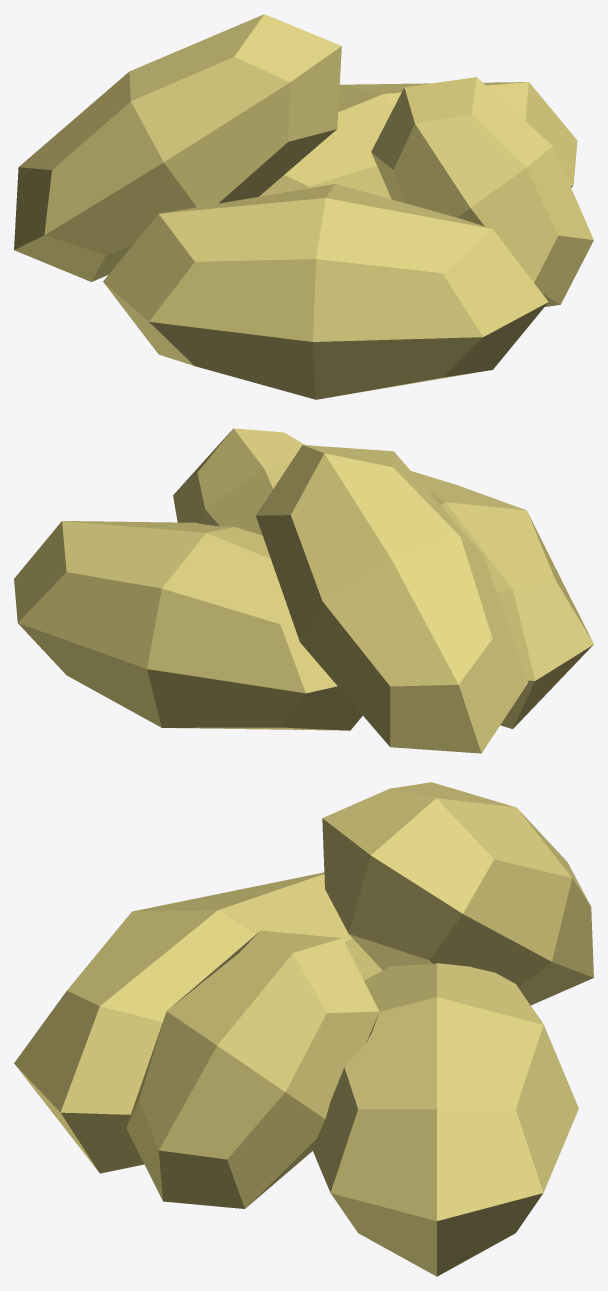
The model's file is patates_raw_low.fbx.
3 views of the same model, one above another, from view 1: azimuth 30°, elevation 25°; view 2: azimuth 150°, elevation 25°; view 3: azimuth 270°, elevation 25° (orthographic). The views are drawn at different scales.
Parts seen in each view (by area): view 1: Cube_2, Cube, Cube_1, Cube_3; view 2: Cube, Cube_3, Cube_2, Cube_1; view 3: Cube_3, Cube_1, Cube, Cube_2.
Part boxes in pixels (x1=…): Cube_2: x1=103, y1=184, x2=548, y2=399; Cube: x1=14, y1=14, x2=341, y2=281; Cube_1: x1=371, y1=77, x2=593, y2=306; Cube_3: x1=259, y1=82, x2=577, y2=199; Cube: x1=256, y1=445, x2=527, y2=753; Cube_3: x1=14, y1=521, x2=362, y2=730; Cube_2: x1=411, y1=471, x2=593, y2=728; Cube_1: x1=173, y1=428, x2=304, y2=535; Cube_3: x1=311, y1=963, x2=578, y2=1276; Cube_1: x1=126, y1=930, x2=379, y2=1208; Cube: x1=322, y1=782, x2=593, y2=1005; Cube_2: x1=14, y1=872, x2=382, y2=1173.
Size of the model in its own units: 85.91 by 46.31 by 68.97.
